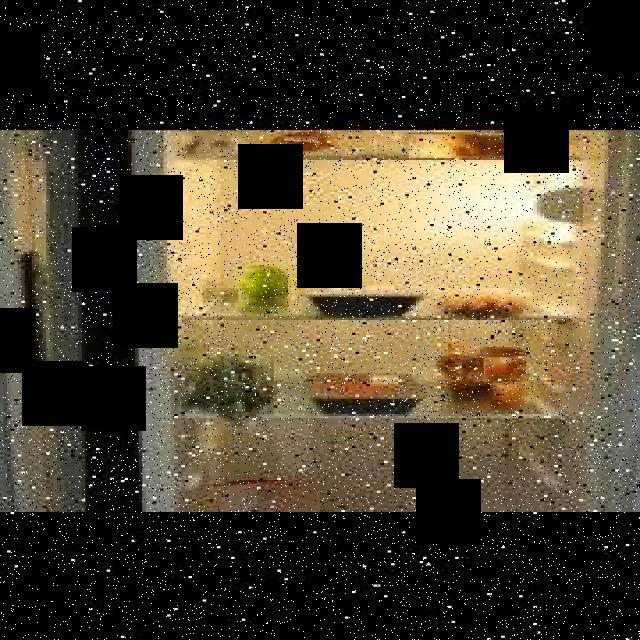apple: (240, 266, 290, 304)
bread: (409, 130, 530, 156)
butter: (220, 480, 316, 512)
cheese: (391, 495, 477, 512)
egg: (284, 136, 320, 150)
onion: (490, 373, 530, 408), (484, 348, 526, 380), (452, 358, 494, 380)
